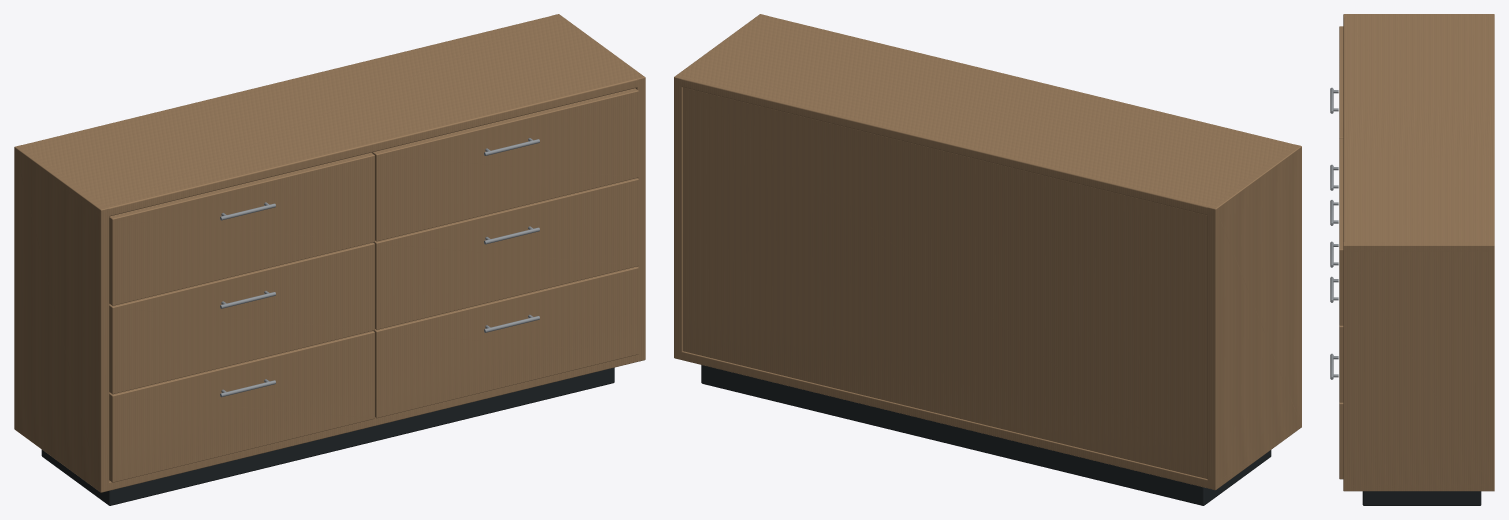
File: original-sideboard.glb
The picture shows the model from 3 angles, left to right: view 1: azimuth 30°, elevation 25°; view 2: azimuth 150°, elevation 25°; view 3: azimuth 270°, elevation 25°; orthographic projection. The views are drawn at different scales.
Visible parts, largest first — view 1: Solid cabinet top, Cabinet side panel, Door panel.004, Door panel.005, Door panel.002, Door panel, Door panel.001, Door panel.003, Recessed cabinet plinth, Cabinet base, Cabinet side panel.001; view 2: Recessed back panel, Solid cabinet top, Cabinet side panel, Recessed cabinet plinth, Cabinet base, Cabinet side panel.001; view 3: Cabinet side panel.001, Solid cabinet top, Recessed cabinet plinth, Door panel.005, Door panel.004, Cabinet base, Door panel.001, Door panel.003, Cabinet side panel.
Boxes of the visible parts, bbox=[...] form: Solid cabinet top: bbox=[16, 14, 644, 216]; Cabinet side panel: bbox=[14, 145, 109, 492]; Door panel.004: bbox=[109, 152, 374, 305]; Door panel.005: bbox=[372, 88, 638, 241]; Door panel.002: bbox=[109, 242, 374, 394]; Door panel: bbox=[109, 331, 374, 482]; Door panel.001: bbox=[373, 266, 638, 418]; Door panel.003: bbox=[373, 178, 638, 329]; Recessed cabinet plinth: bbox=[41, 367, 614, 505]; Cabinet base: bbox=[104, 352, 645, 490]; Cabinet side panel.001: bbox=[551, 14, 645, 361]; Recessed back panel: bbox=[683, 87, 1207, 478]; Solid cabinet top: bbox=[676, 14, 1299, 215]; Cabinet side panel: bbox=[1207, 144, 1301, 490]; Recessed cabinet plinth: bbox=[701, 365, 1271, 505]; Cabinet base: bbox=[674, 350, 1259, 489]; Cabinet side panel.001: bbox=[674, 14, 767, 359]; Cabinet side panel.001: bbox=[1343, 242, 1494, 491]; Solid cabinet top: bbox=[1343, 14, 1494, 251]; Recessed cabinet plinth: bbox=[1362, 491, 1481, 505]; Door panel.005: bbox=[1339, 138, 1343, 325]; Door panel.004: bbox=[1339, 26, 1343, 138]; Cabinet base: bbox=[1344, 484, 1493, 491]; Door panel.001: bbox=[1339, 402, 1343, 479]; Door panel.003: bbox=[1339, 325, 1343, 402]; Cabinet side panel: bbox=[1343, 14, 1494, 17].
Bounding box in the file's own units: 1.4 × 0.76 × 0.42.
Materials: 3 (1 with a texture image).
